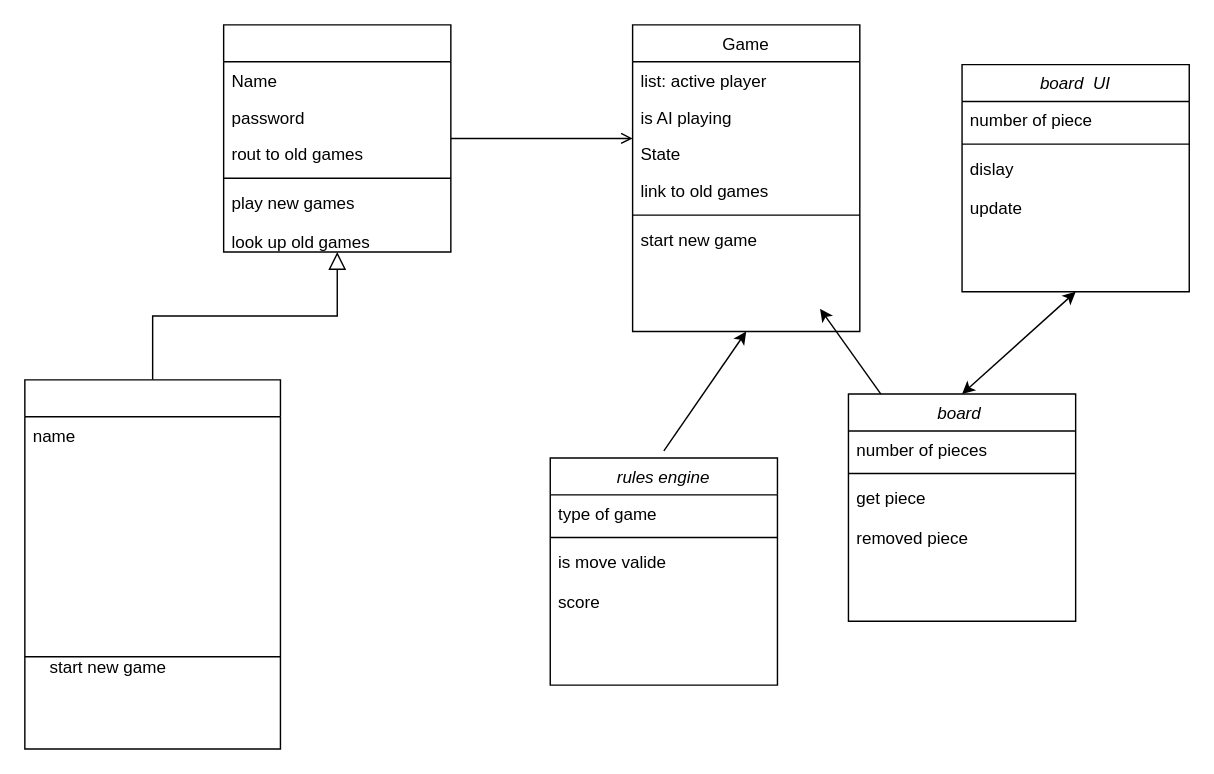
This 1214x774 diagram has some shape labels left out. The shapes that lost their labels are listed below. From the top down, each one's box as (x1, y1, x2, y2) in pixels, then its label:
(222, 23, 451, 252): plyaer
(23, 378, 280, 749): AI player
